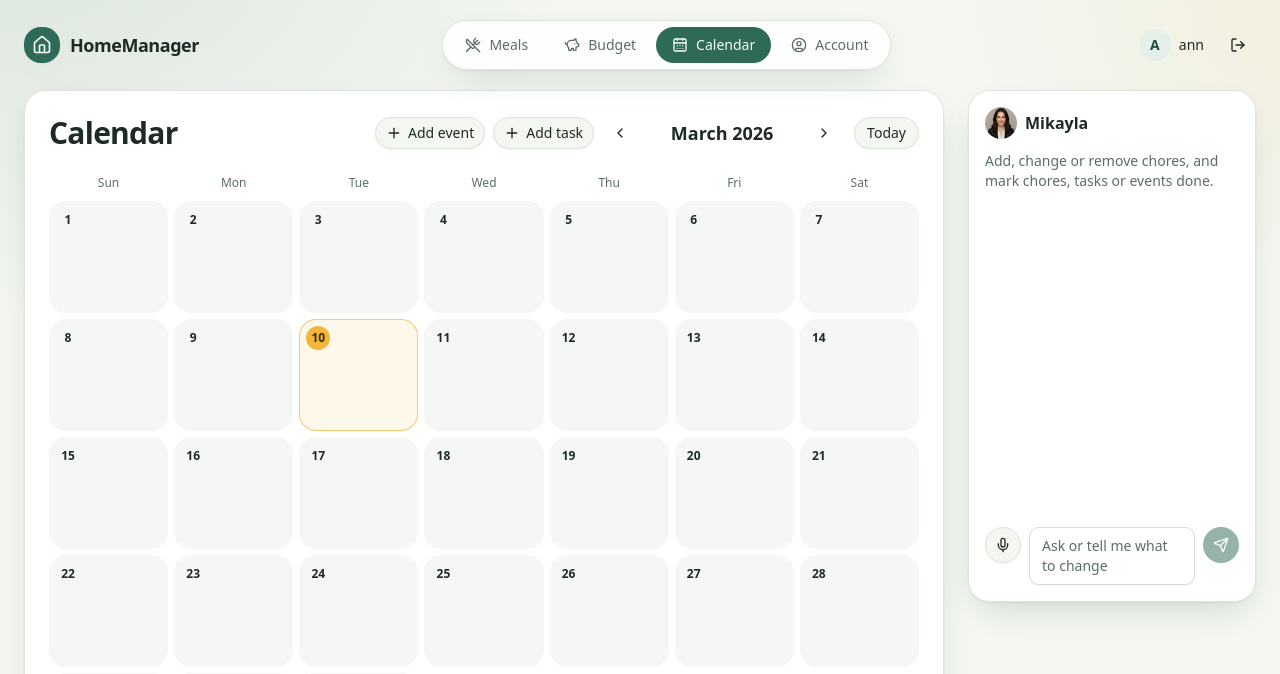
Test case: AssistantPanel › shows an error inline and gives the message back to retry
The width and height of the screenshot is (1280, 674).
In the text box named "Message Mikayla": (1112, 556) [1029,527,1195,585], type "Hello"
Then press Enter
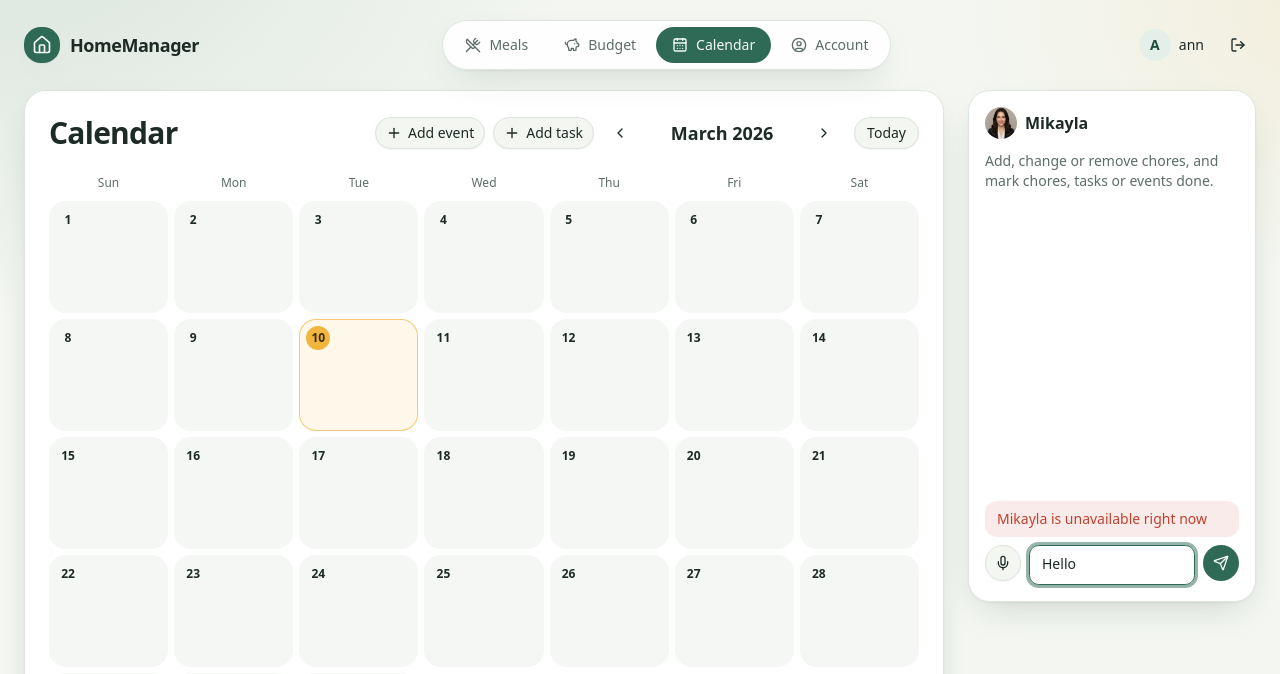
expect the message reads "Mikayla is unavailable right now": met, box [997,509,1207,528]
